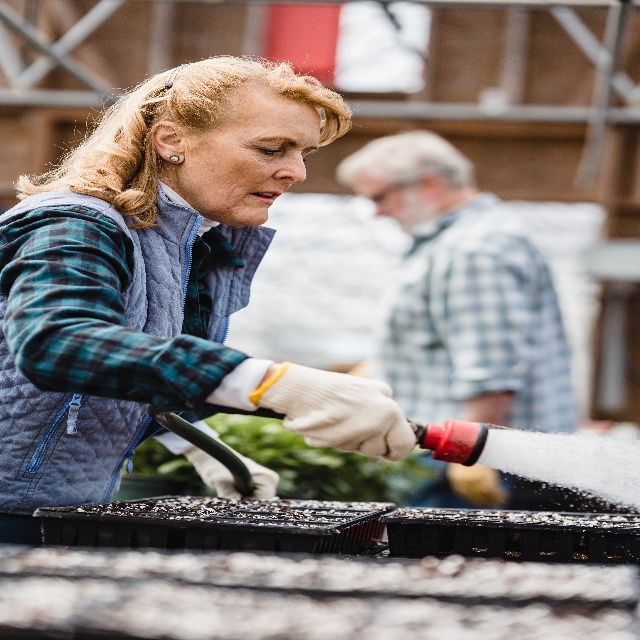Guantes: (247, 353, 418, 472), (446, 461, 510, 508)
